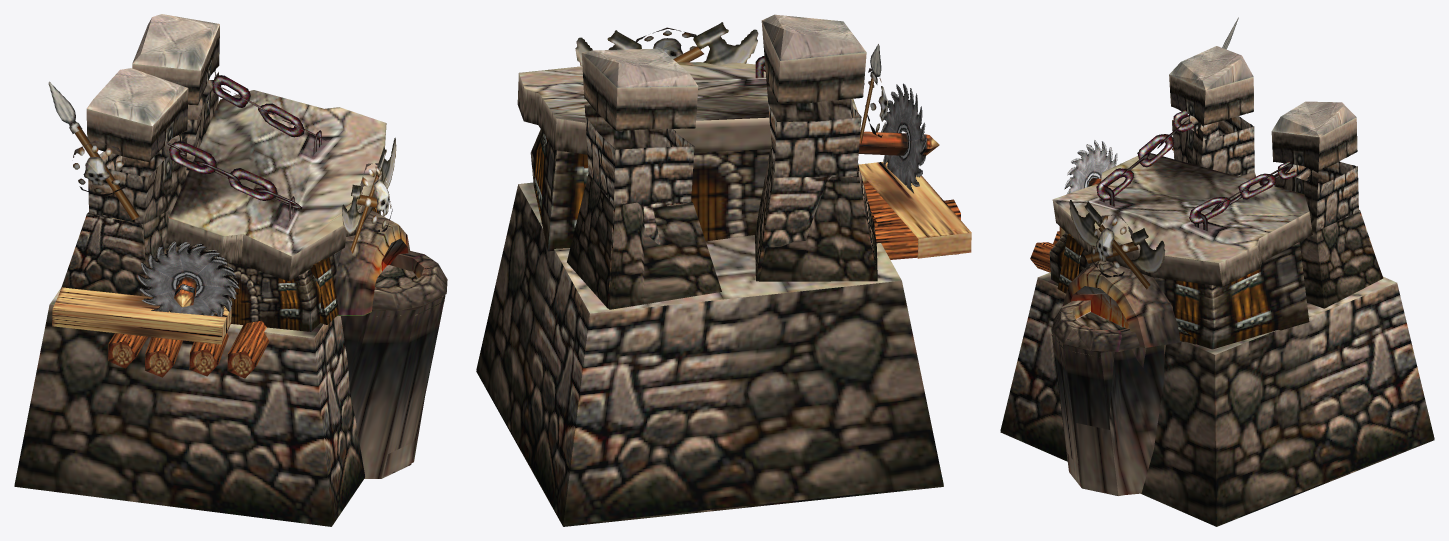
The model's file is WarMill.dae.
The picture shows the model from 3 angles, left to right: view 1: azimuth 30°, elevation 25°; view 2: azimuth 150°, elevation 25°; view 3: azimuth 270°, elevation 25°; orthographic projection. The views are drawn at different scales.
Parts seen in each view (by area): view 1: Mesh07, Mesh01, Mesh08, Mesh12, Mesh02; view 2: Mesh07, Mesh08, Mesh02, Mesh01, Mesh12; view 3: Mesh07, Mesh08, Mesh12, Mesh01, Mesh02.
Part boxes in pixels (x1=…): Mesh07: x1=14, y1=14, x2=447, y2=525; Mesh01: x1=52, y1=240, x2=269, y2=378; Mesh08: x1=73, y1=25, x2=392, y2=231; Mesh12: x1=14, y1=295, x2=445, y2=526; Mesh02: x1=60, y1=168, x2=359, y2=324; Mesh07: x1=476, y1=14, x2=943, y2=525; Mesh08: x1=581, y1=21, x2=887, y2=205; Mesh02: x1=583, y1=154, x2=877, y2=309; Mesh01: x1=858, y1=83, x2=971, y2=259; Mesh12: x1=476, y1=371, x2=943, y2=526; Mesh07: x1=1000, y1=17, x2=1434, y2=525; Mesh08: x1=1091, y1=74, x2=1358, y2=277; Mesh12: x1=1000, y1=328, x2=1434, y2=526; Mesh01: x1=1030, y1=140, x2=1117, y2=272; Mesh02: x1=1057, y1=210, x2=1376, y2=344.
Size of the model in its own units: 292 by 266 by 295.
Materials: 3 (3 with a texture image).
